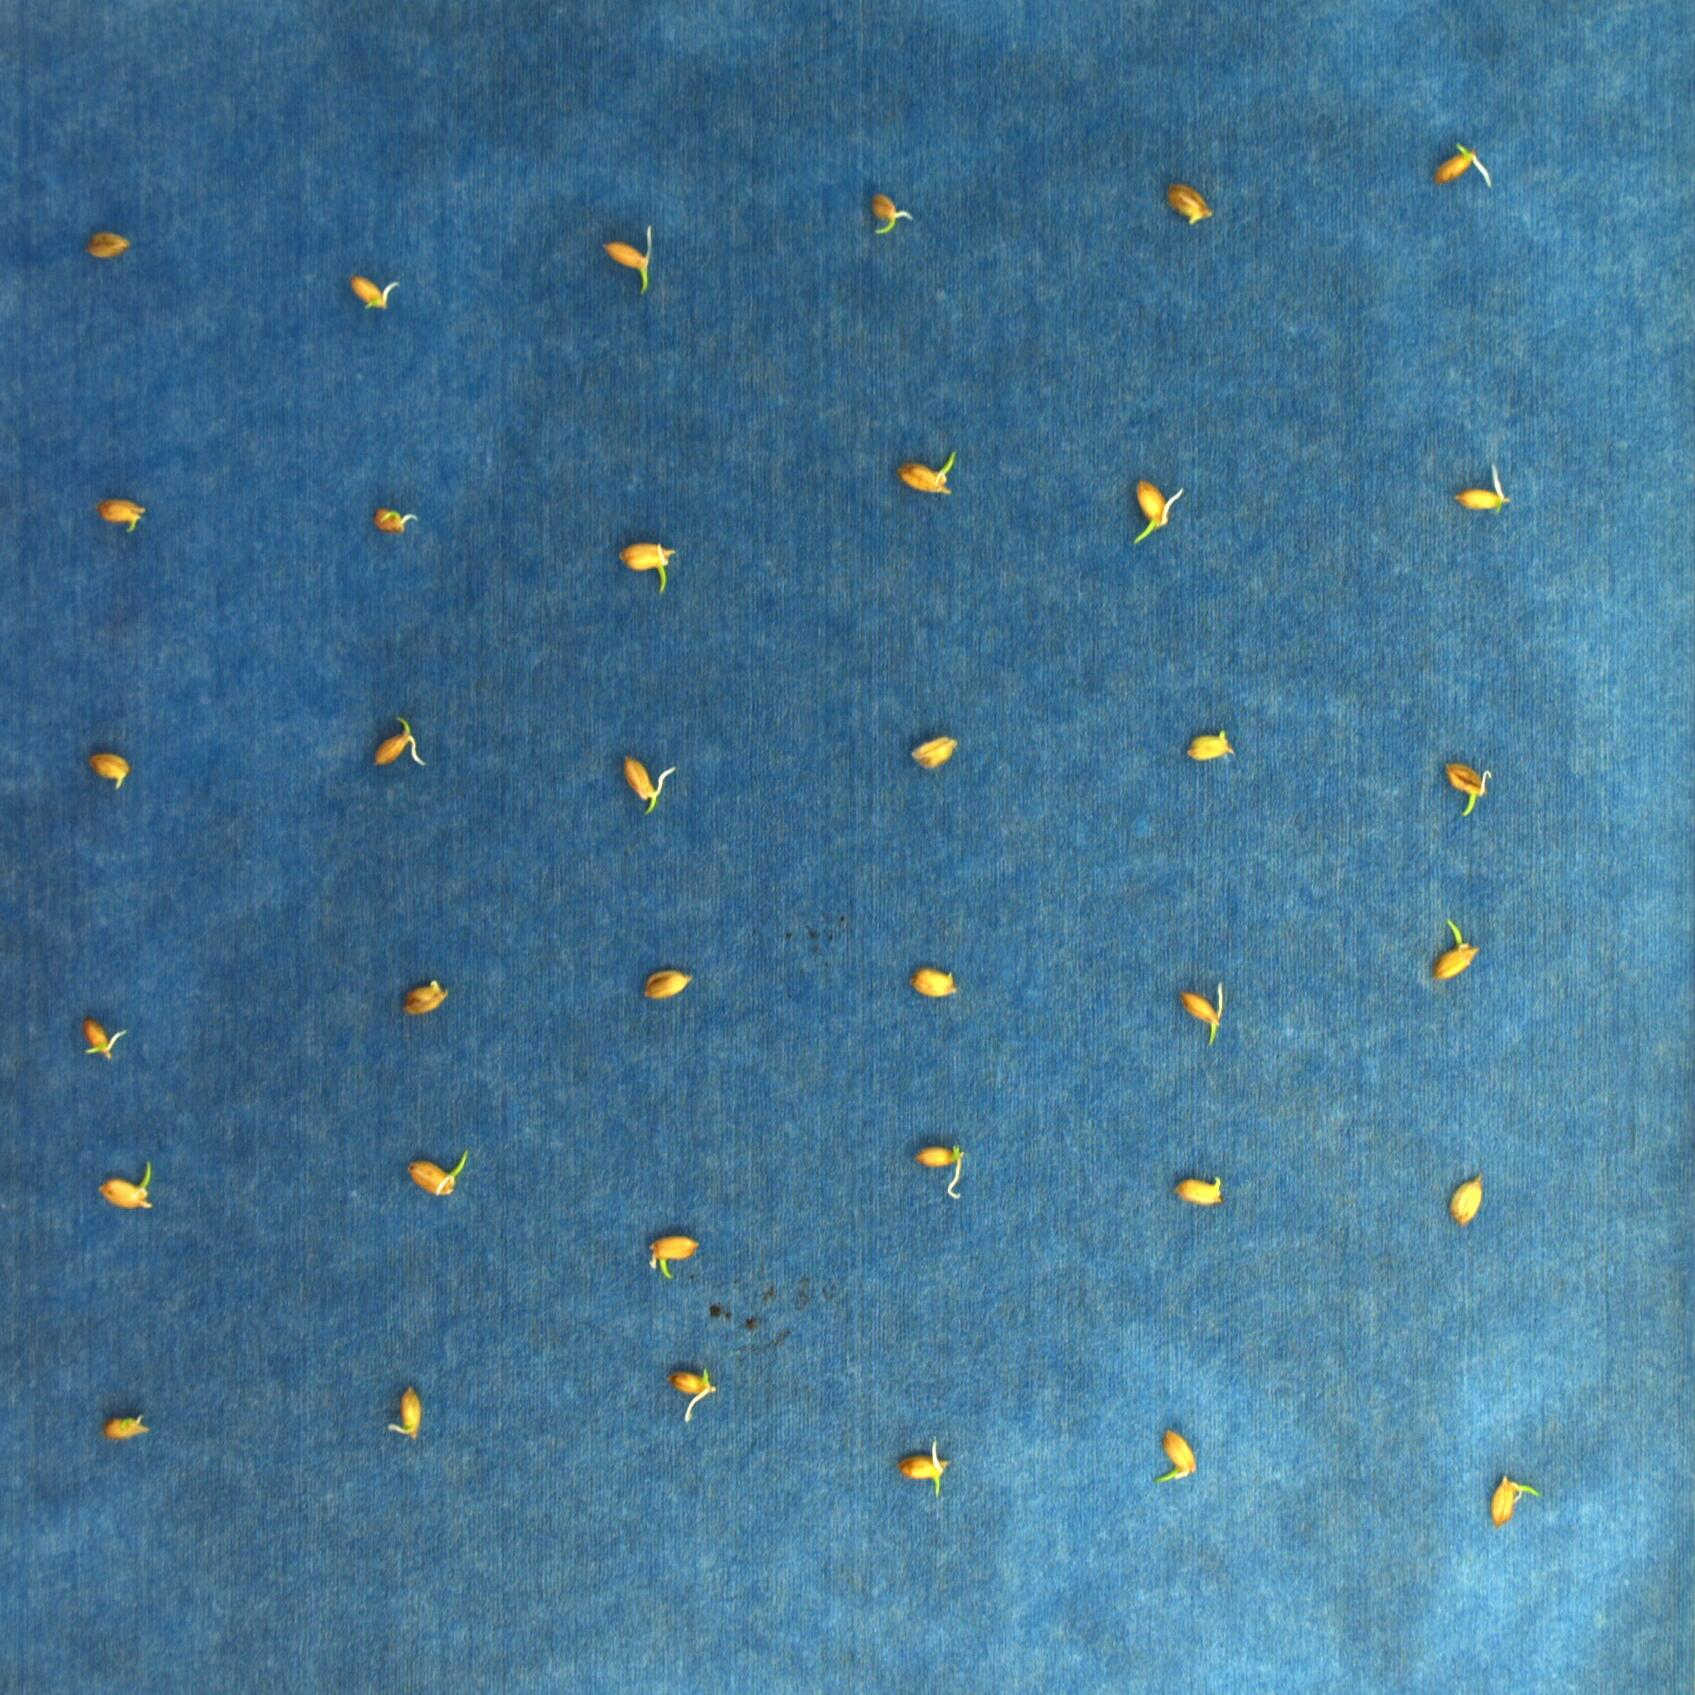not sprout: (1430, 140, 1493, 192), (1444, 1169, 1485, 1243), (1453, 459, 1510, 514), (1159, 177, 1222, 227), (917, 1142, 970, 1200), (905, 726, 964, 775), (348, 265, 408, 312), (385, 1386, 428, 1445), (81, 225, 138, 265), (636, 969, 698, 1004), (81, 750, 133, 792), (96, 494, 147, 534), (1173, 1166, 1229, 1201), (906, 962, 958, 998), (404, 979, 452, 1017), (102, 1406, 147, 1444), (1181, 731, 1239, 757)
sprout: (1425, 914, 1487, 990), (1119, 473, 1184, 545), (618, 750, 677, 820), (602, 227, 660, 296), (1437, 754, 1498, 816), (615, 537, 678, 596), (896, 445, 959, 500), (1180, 979, 1228, 1051), (899, 1434, 951, 1495), (647, 1226, 702, 1282), (408, 1150, 469, 1198), (369, 719, 425, 770), (672, 1364, 720, 1423), (861, 183, 913, 234), (1153, 1425, 1195, 1485), (96, 1166, 154, 1209), (1489, 1475, 1541, 1521), (366, 500, 421, 536), (81, 1020, 126, 1062)
